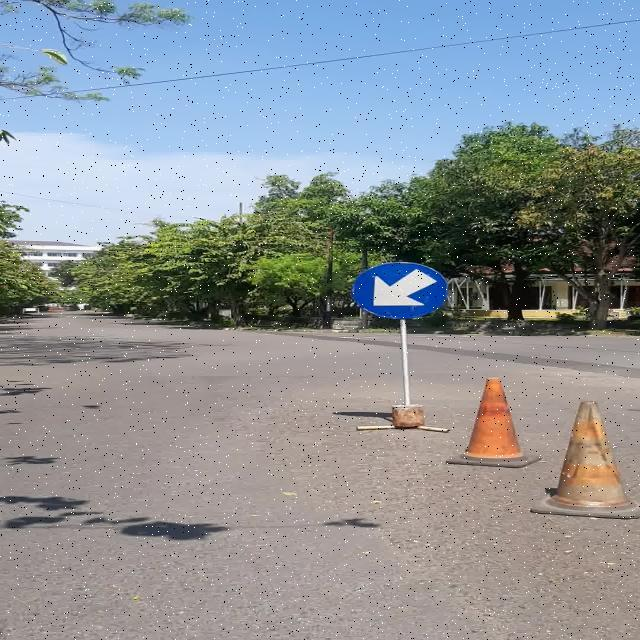Lajur Kiri: (352, 262, 447, 319)
